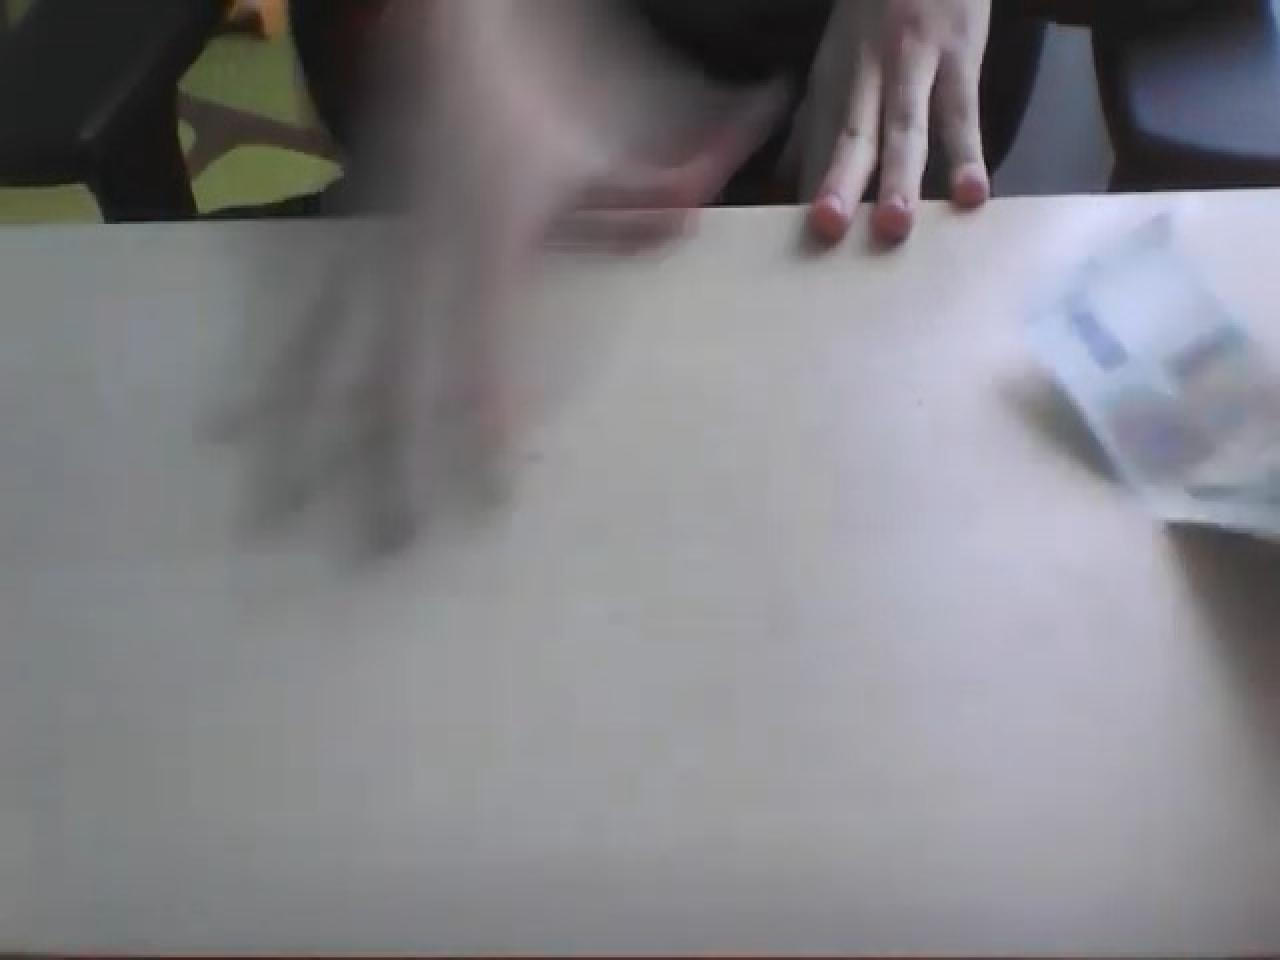100leva: (4, 184, 1278, 952), (1026, 208, 1280, 544)
